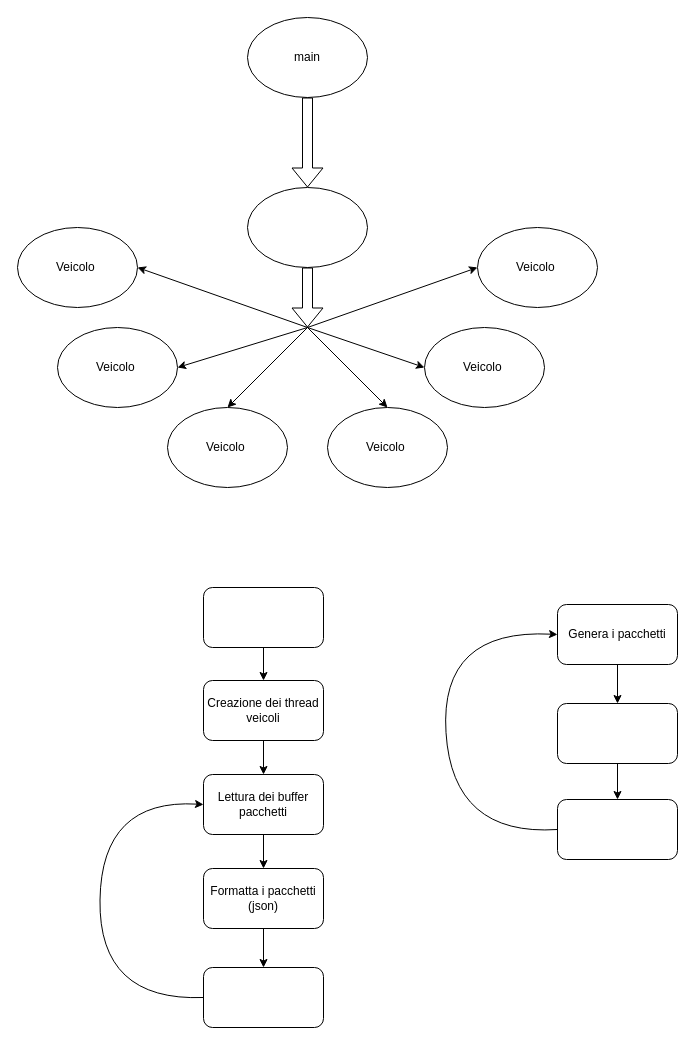
This 695x1045 diagram has some shape labels left out. Here are the shapes that lost their labels. From the top down, the centre of each, then its label:
(307,227): Gateway
(263,617): Preparazione dell'ambiente
(617,733): Memorizza i pacchetti in un buffer locale
(617,829): Scrive i pacchetti presenti sul buffer locale nel buffer del gateway
(263,997): Scrittura su socket del json
